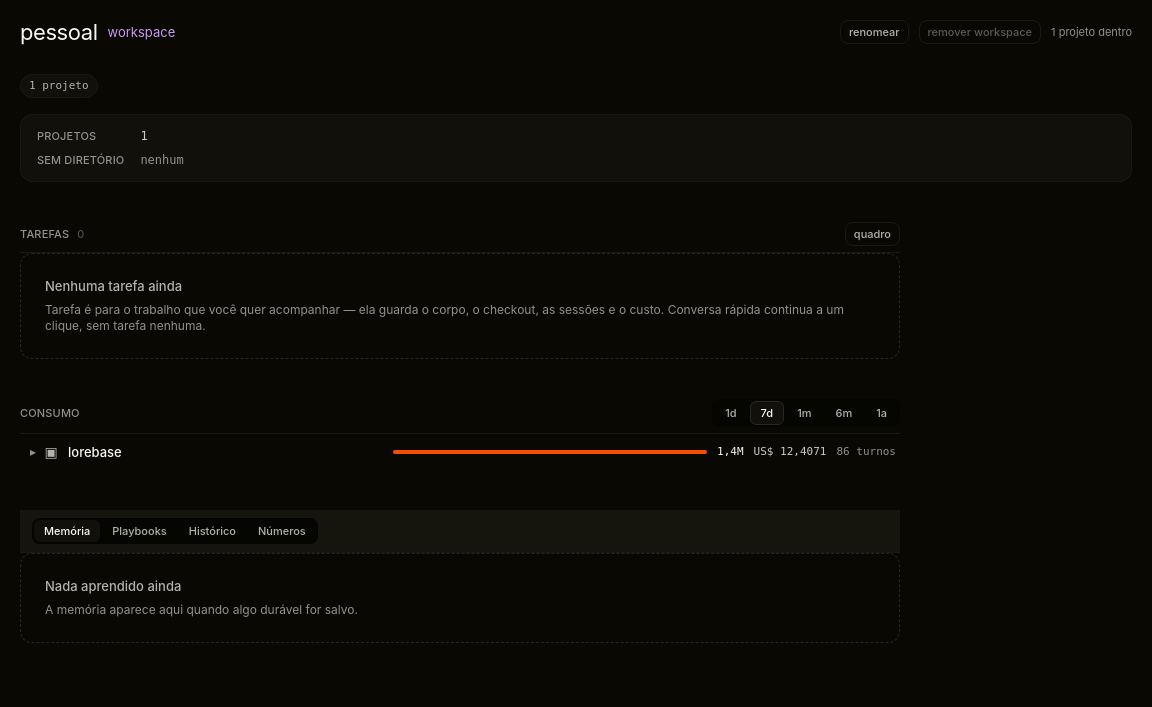
Test: a divisão por conta › a conta vem logo abaixo do agente dela, e não embaixo do outro
Step 1. Click the button named "abrir a divisão por agente" → (30, 452), box x1=24 y1=442 x2=36 y2=462
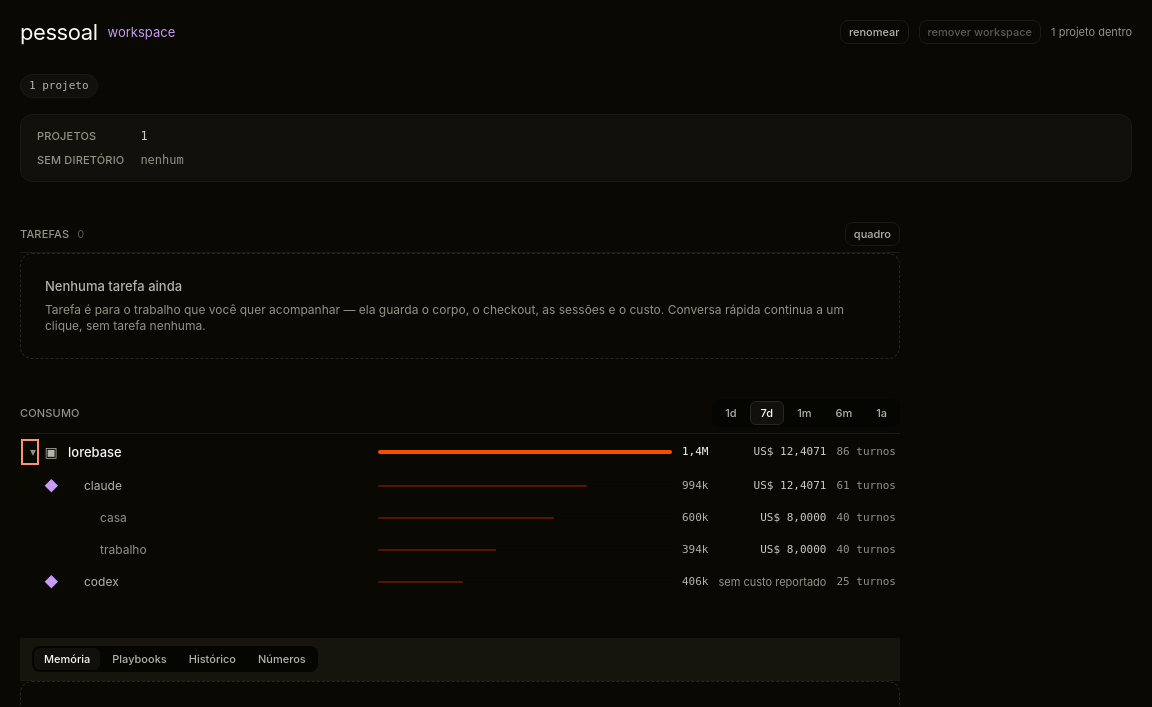
expect the text "casa" is shown: met, box x1=100 y1=510 x2=127 y2=525
